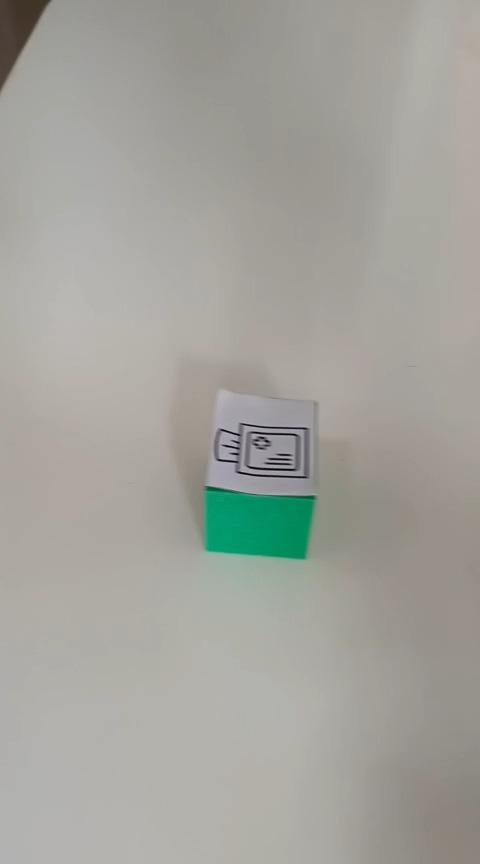Gauze: (201, 387, 319, 560)
